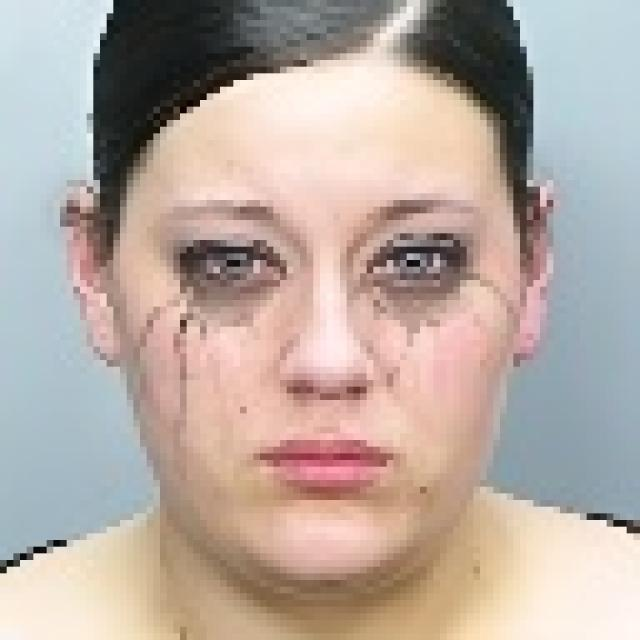sad: (86, 36, 528, 591)
